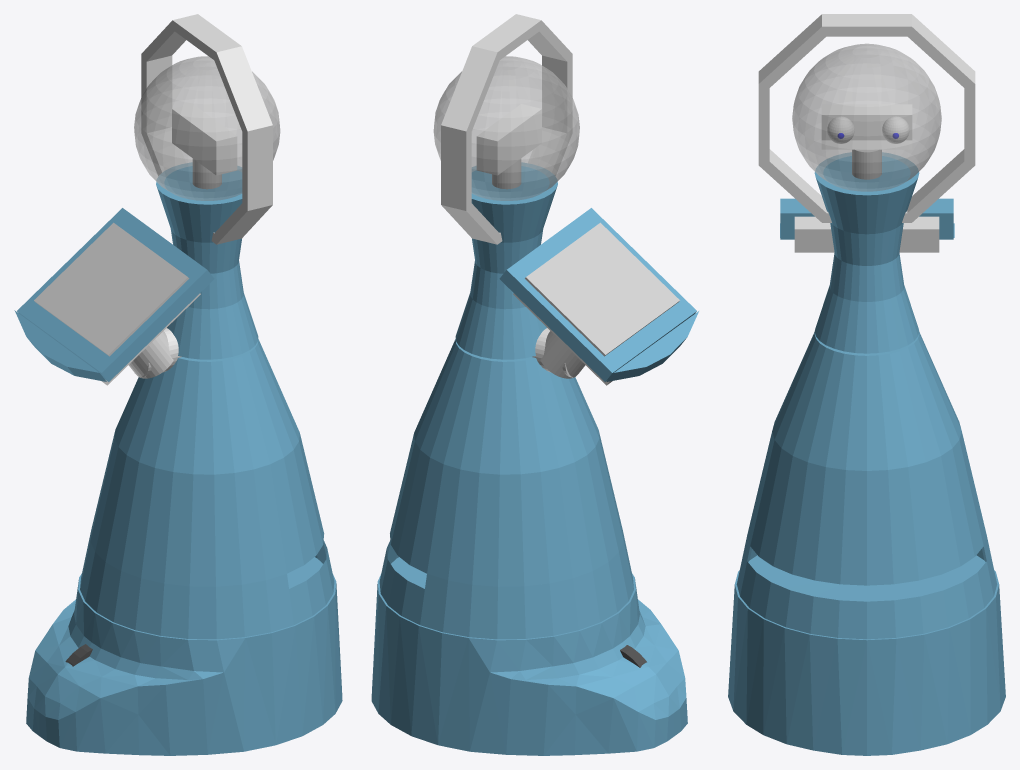
Rendered from scitos_materials.dae.
3 views of the same model, side by side, from view 1: azimuth 30°, elevation 25°; view 2: azimuth 150°, elevation 25°; view 3: azimuth 270°, elevation 25° (orthographic). The views are drawn at different scales.
Parts seen in each view (by area): view 1: sc_chassis, Body2, Body3, Body1, head, halo, screen_screen, sc_body1, Body7, Body4, eye_mount_high, sc_body2 (+4 smaller); view 2: sc_chassis, Body2, Body3, Body1, head, halo, screen_screen, sc_body1, Body7, Body4, eye_mount_high, sc_body2 (+4 smaller); view 3: sc_chassis, Body2, Body3, head, halo, Body1, Body7, Body4, eye_mount_high, sc_body3, Body5, Body6 (+4 smaller).
Part boxes in pixels (x1=…): sc_chassis: x1=26, y1=557, x2=342, y2=755; Body2: x1=90, y1=431, x2=324, y2=586; Body3: x1=114, y1=339, x2=299, y2=474; Body1: x1=80, y1=532, x2=334, y2=639; head: x1=134, y1=56, x2=280, y2=200; halo: x1=141, y1=14, x2=272, y2=244; screen_screen: x1=34, y1=222, x2=189, y2=356; sc_body1: x1=17, y1=208, x2=214, y2=381; Body7: x1=156, y1=162, x2=242, y2=242; Body4: x1=167, y1=293, x2=258, y2=359; eye_mount_high: x1=172, y1=104, x2=237, y2=175; sc_body2: x1=14, y1=310, x2=106, y2=381; sc_chassis: x1=371, y1=557, x2=687, y2=755; Body2: x1=390, y1=430, x2=623, y2=586; Body3: x1=414, y1=339, x2=599, y2=474; Body1: x1=379, y1=532, x2=633, y2=639; head: x1=433, y1=56, x2=579, y2=200; halo: x1=441, y1=14, x2=572, y2=244; screen_screen: x1=525, y1=222, x2=679, y2=356; sc_body1: x1=499, y1=208, x2=696, y2=381; Body7: x1=471, y1=162, x2=557, y2=242; Body4: x1=455, y1=293, x2=546, y2=359; eye_mount_high: x1=476, y1=104, x2=541, y2=175; sc_body2: x1=607, y1=311, x2=698, y2=381; sc_chassis: x1=728, y1=555, x2=1005, y2=755; Body2: x1=747, y1=431, x2=986, y2=585; Body3: x1=772, y1=332, x2=961, y2=470; head: x1=792, y1=43, x2=941, y2=191; halo: x1=758, y1=14, x2=975, y2=222; Body1: x1=736, y1=535, x2=997, y2=639; Body7: x1=814, y1=152, x2=919, y2=234; Body4: x1=814, y1=286, x2=919, y2=353; eye_mount_high: x1=821, y1=104, x2=912, y2=149; sc_body3: x1=794, y1=216, x2=939, y2=252; Body5: x1=829, y1=253, x2=904, y2=301; Body6: x1=830, y1=223, x2=903, y2=265.
Bounding box in the file's own units: 0.6774 × 0.5569 × 1.52.
